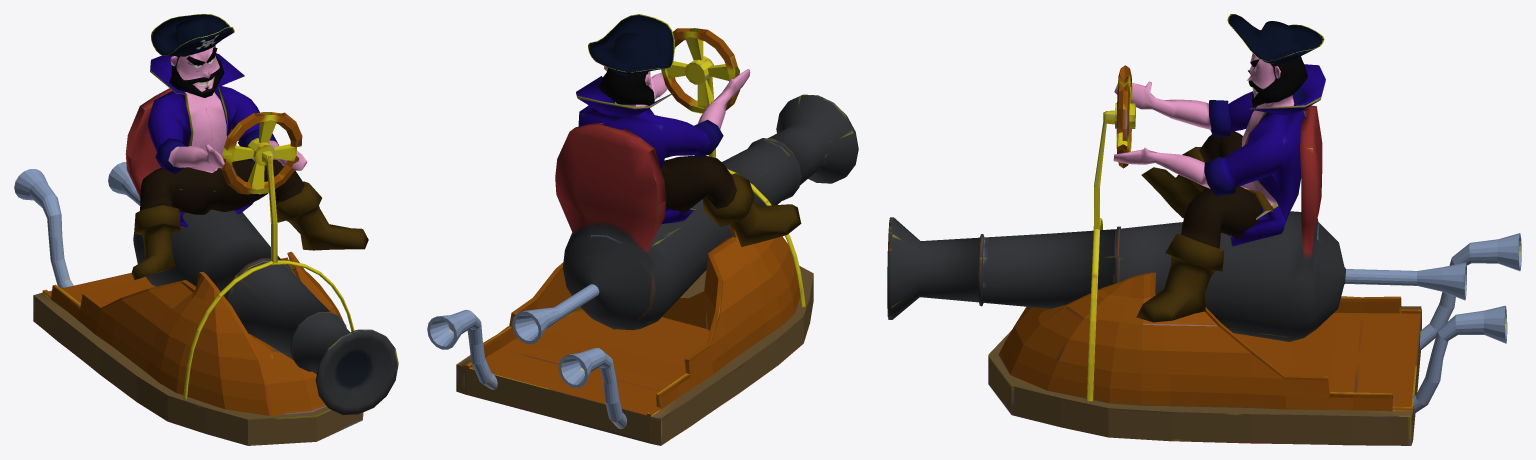
The model's file is pirataGiroDER_000568.obj.
3 views of the same model, side by side, from view 1: azimuth 30°, elevation 25°; view 2: azimuth 150°, elevation 25°; view 3: azimuth 270°, elevation 25° (orthographic). The views are drawn at different scales.
Visible parts, largest first — view 1: carro_pirata, Pirata_PirataH; view 2: carro_pirata, Pirata_PirataH; view 3: carro_pirata, Pirata_PirataH.
Part boxes in pixels (left/top/right/bottom): carro_pirata: left=14, top=88, right=398, bottom=445; Pirata_PirataH: left=131, top=14, right=368, bottom=280; carro_pirata: left=427, top=28, right=858, bottom=445; Pirata_PirataH: left=576, top=14, right=801, bottom=246; carro_pirata: left=887, top=65, right=1521, bottom=445; Pirata_PirataH: left=1113, top=14, right=1325, bottom=322.
Bounding box in the file's own units: 5.7 × 7.74 × 12.1.
